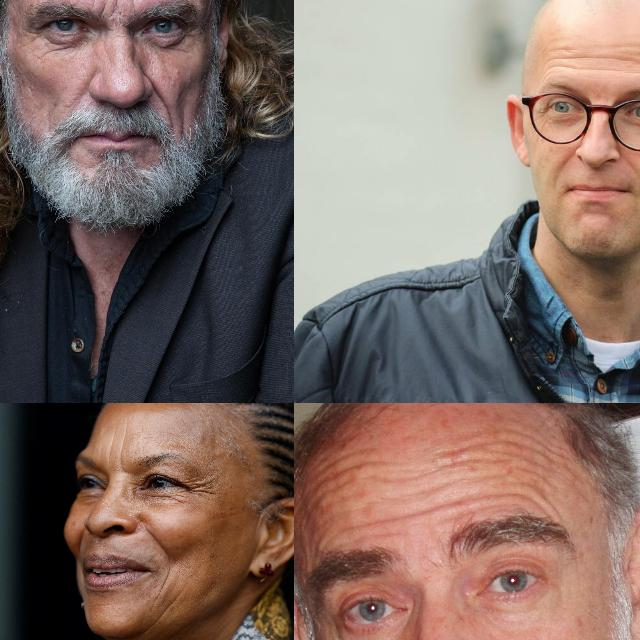crows_feet: (186, 474, 220, 504), (20, 22, 42, 46), (536, 102, 548, 121)
forehead: (314, 451, 372, 495), (482, 478, 558, 509), (492, 426, 554, 464), (346, 511, 406, 543), (417, 488, 469, 522), (436, 434, 480, 472), (545, 44, 571, 76), (580, 51, 622, 65), (632, 46, 640, 81)
frown_line: (109, 435, 125, 475), (92, 0, 112, 20), (109, 0, 128, 18)
gummy_smile: (142, 72, 174, 118), (142, 524, 172, 560), (558, 148, 574, 170)
masseter: (153, 570, 179, 626)
